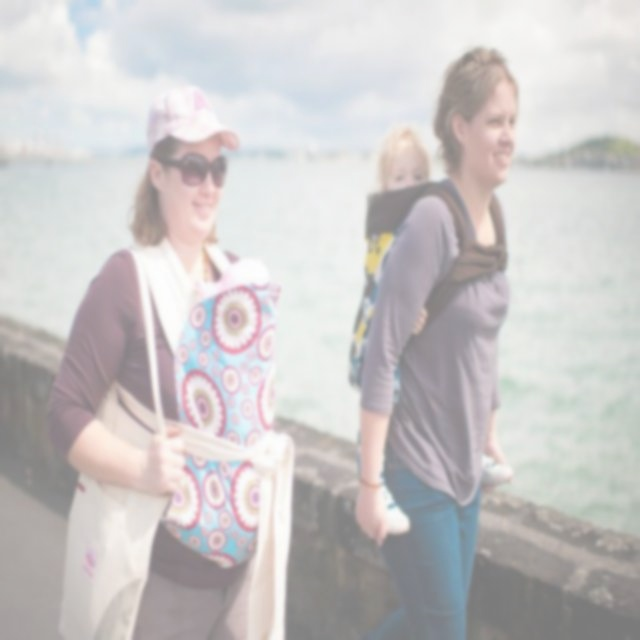pessoa: (43, 84, 300, 639), (349, 31, 523, 638), (346, 127, 514, 536)
